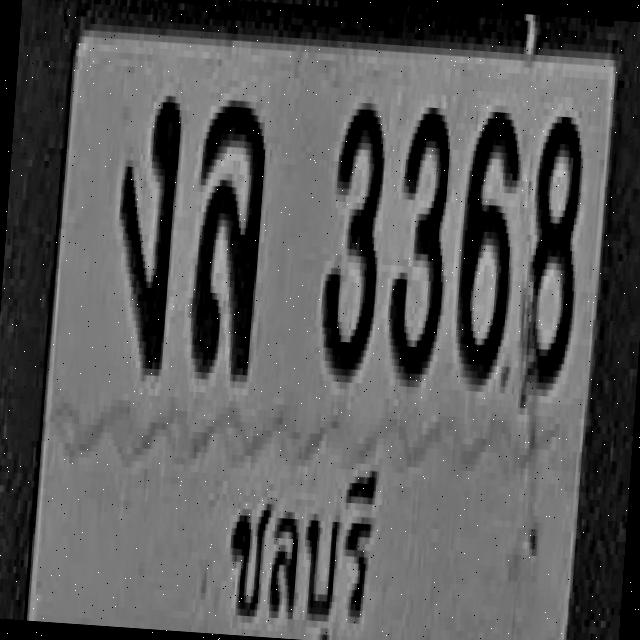16NgorNgu: (109, 90, 182, 372)
3: (316, 94, 388, 377), (386, 99, 455, 382)
45LorLing: (188, 92, 268, 376)
6: (452, 103, 522, 380)
8: (519, 108, 586, 391)
Chonburi: (215, 452, 395, 640)
